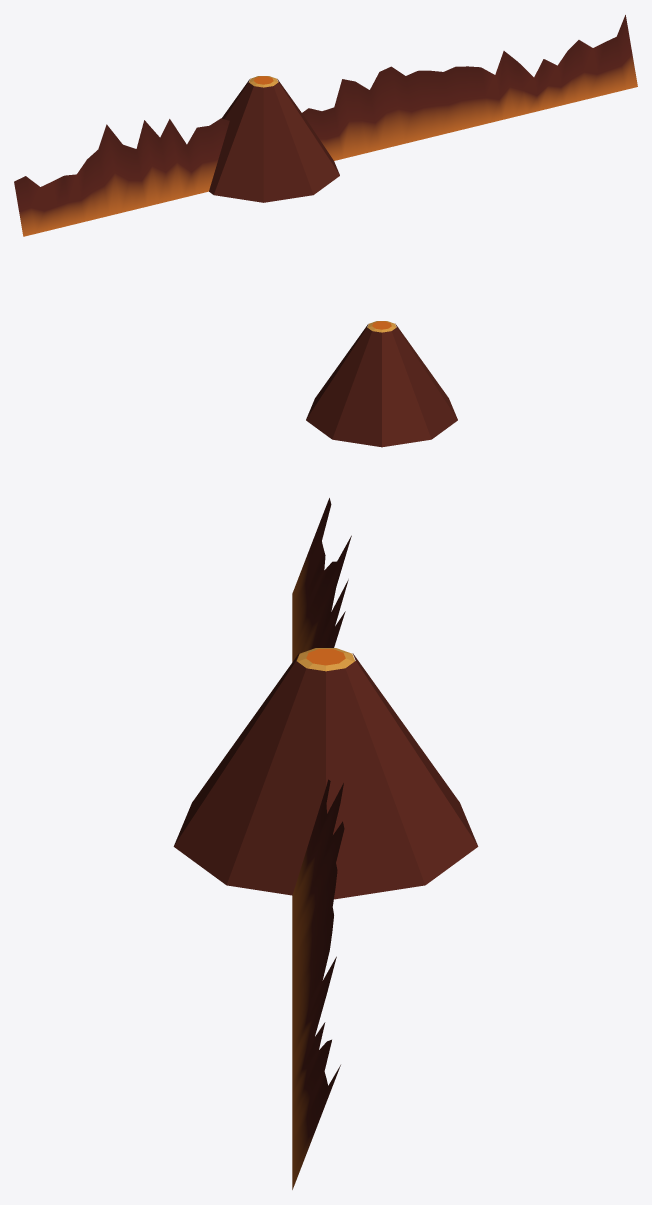
3 renders of one model, top to bottom at view 1: azimuth 30°, elevation 25°; view 2: azimuth 150°, elevation 25°; view 3: azimuth 270°, elevation 25°, orthographic. The views are drawn at different scales.
Visible parts, largest first — view 1: hl_hz_b; view 2: hl_hz_b; view 3: hl_hz_b.
Boxes of the visible parts, x1=… form: hl_hz_b: x1=14, y1=15, x2=637, y2=236; hl_hz_b: x1=306, y1=321, x2=457, y2=447; hl_hz_b: x1=173, y1=498, x2=478, y2=1189.
Size of the model in its own units: 420 by 58.5 by 90.6.
